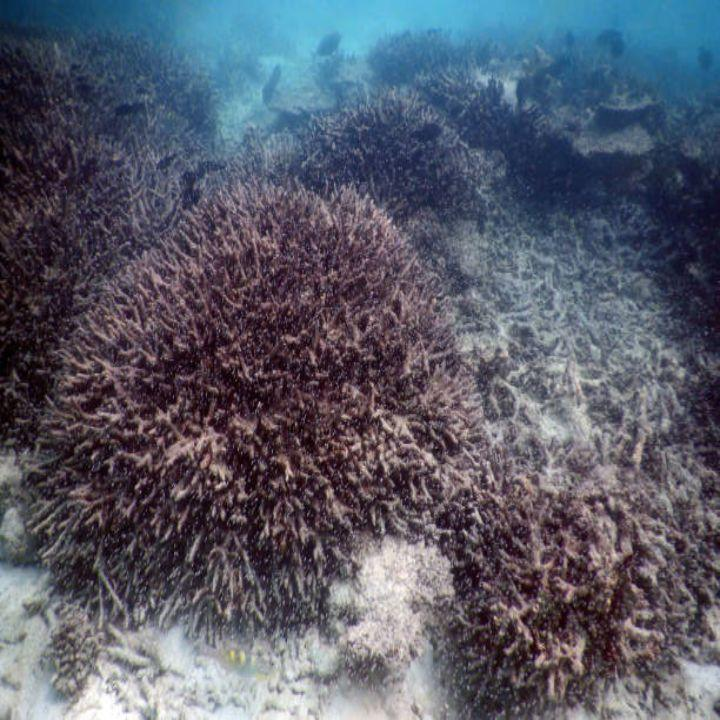Dead Coral: (76, 93, 626, 654)
